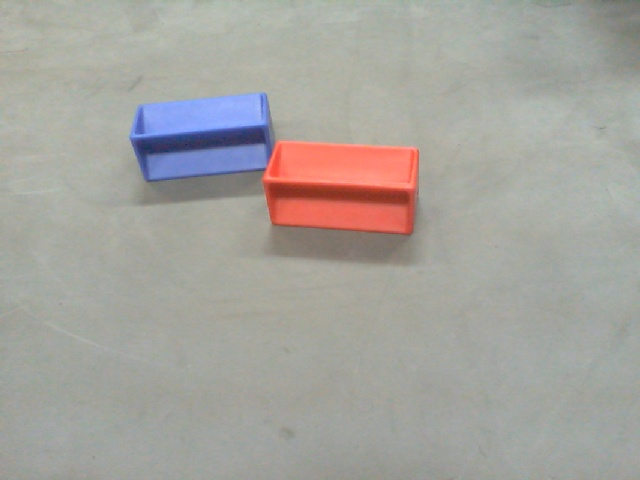BlueSample: (128, 92, 273, 183)
RedSample: (263, 137, 419, 235)
